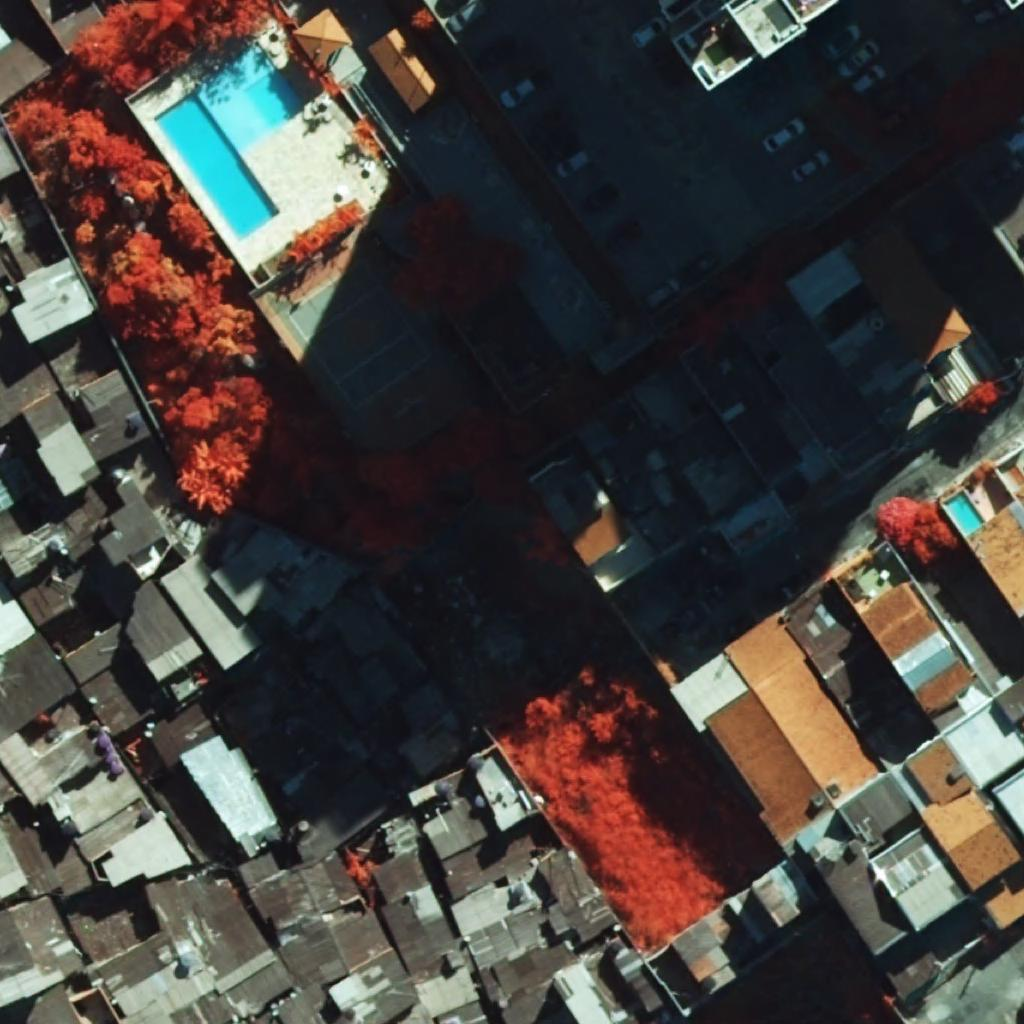pool: (155, 42, 307, 240), (944, 491, 984, 534)
